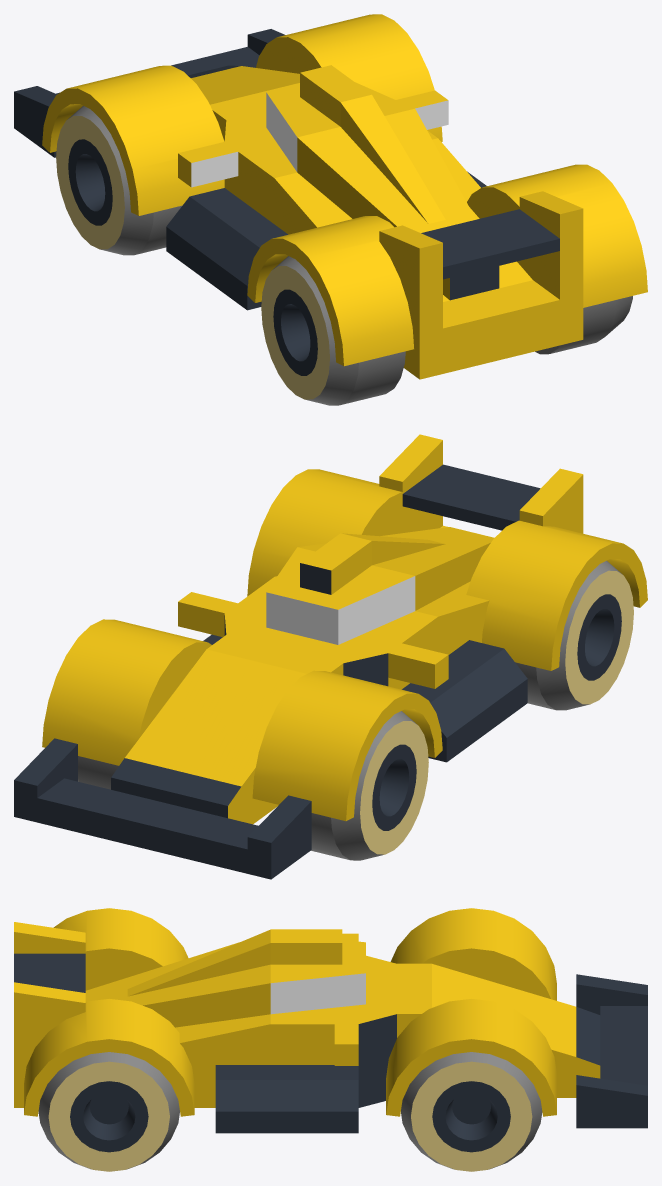
The model's file is raceFuture.glb.
The picture shows the model from 3 angles, top to bottom: view 1: azimuth 30°, elevation 25°; view 2: azimuth 150°, elevation 25°; view 3: azimuth 270°, elevation 25°; orthographic projection. The views are drawn at different scales.
Visible parts, largest first — view 1: body, wheel_backLeft, wheel_frontLeft, wheel_backRight; view 2: body, wheel_frontLeft, wheel_backLeft, wheel_frontRight; view 3: body, wheel_frontRight, wheel_backRight.
Part boxes in pixels (x1,y1,x2,y2): body: (14,14,647,379); wheel_backLeft: (261,256,405,405); wheel_frontLeft: (56,106,181,255); wheel_backRight: (535,296,632,354); body: (14,434,647,879); wheel_frontLeft: (311,711,428,860); wheel_backLeft: (515,560,633,710); wheel_frontRight: (78,756,118,789); body: (14,908,647,1133); wheel_frontRight: (401,1052,542,1171); wheel_backRight: (38,1052,179,1171).
Bounding box in the file's own units: 1.3 × 0.8325 × 2.66.
